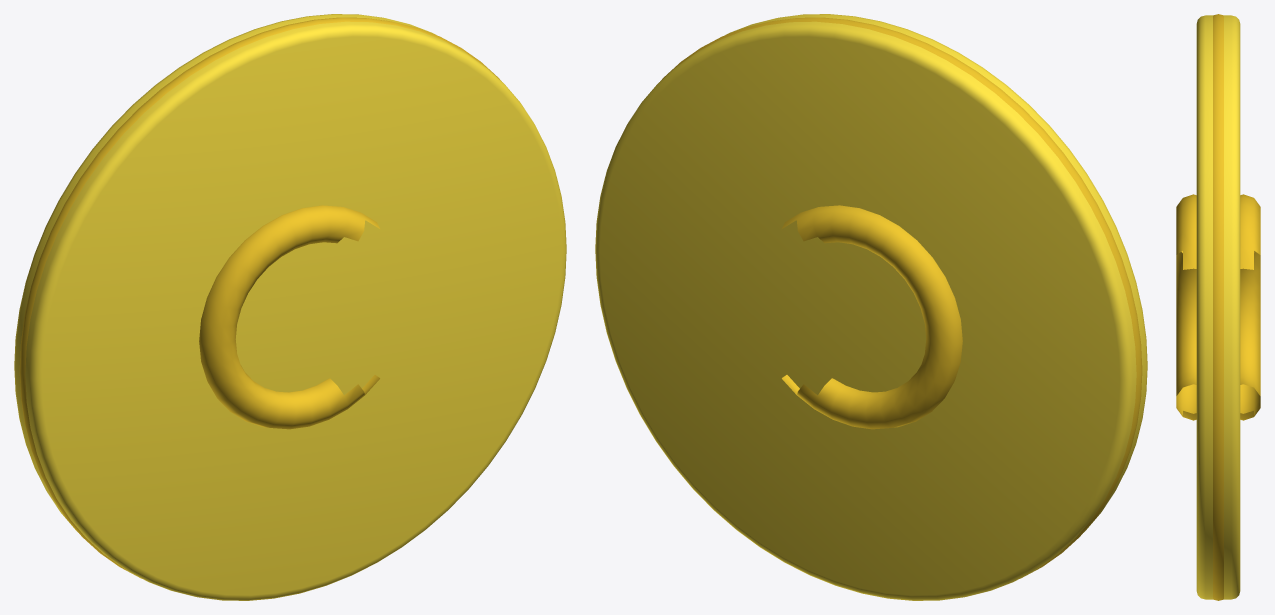
Rendered from Coin.fbx.
The picture shows the model from 3 angles, left to right: view 1: azimuth 30°, elevation 25°; view 2: azimuth 150°, elevation 25°; view 3: azimuth 270°, elevation 25°; orthographic projection. The views are drawn at different scales.
Visible parts, largest first — view 1: MarioCoin; view 2: MarioCoin; view 3: MarioCoin.
Boxes of the visible parts, box(x1,y1,x2,y2) form: MarioCoin: box(14, 14, 566, 600); MarioCoin: box(595, 14, 1147, 600); MarioCoin: box(1176, 14, 1260, 600).
Size of the model in its own units: 80.4 by 80.4 by 11.56.
